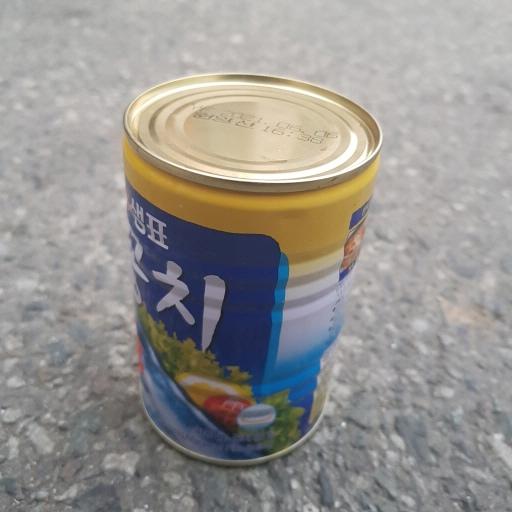Metal_1: (118, 72, 383, 464)
